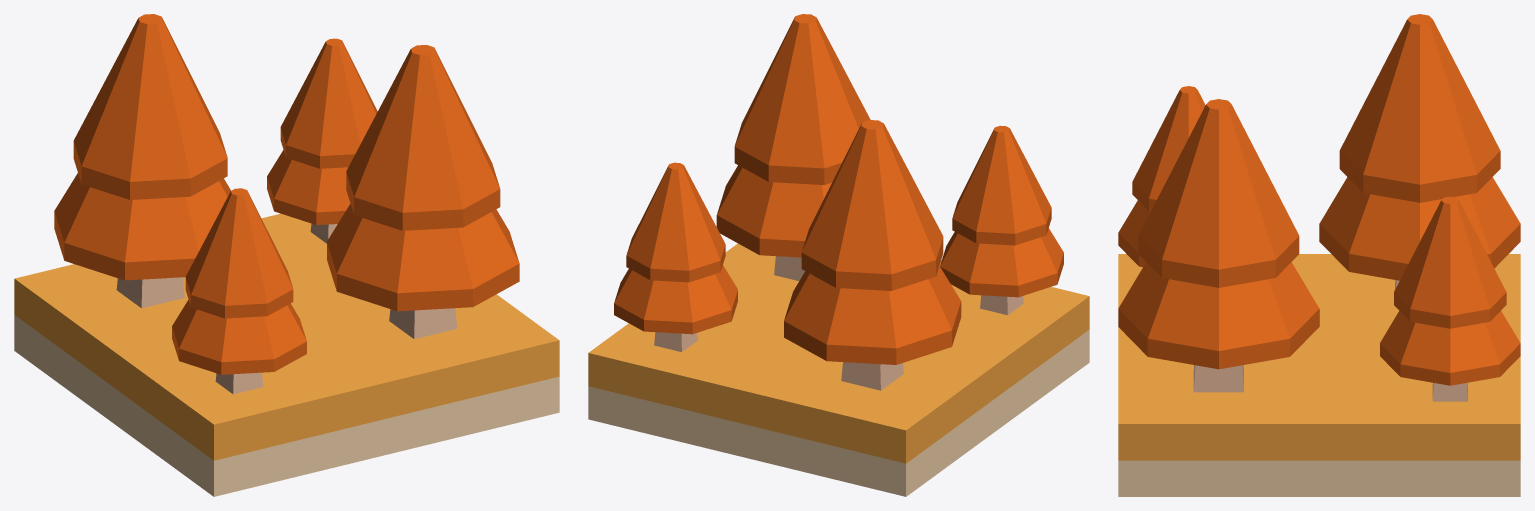
The model's file is autumn_tree_Quad.fbx.
The picture shows the model from 3 angles, left to right: view 1: azimuth 30°, elevation 25°; view 2: azimuth 150°, elevation 25°; view 3: azimuth 270°, elevation 25°; orthographic projection. The views are drawn at different scales.
Visible parts, largest first — view 1: tile_treeQuad, tree.003, tree.002, tree, tree.001; view 2: tile_treeQuad, tree.002, tree.003, tree.001, tree; view 3: tile_treeQuad, tree.003, tree.002, tree.001, tree.
Part boxes in pixels (x1,y1,x2,y2): tile_treeQuad: (14, 213, 559, 496); tree.003: (327, 45, 519, 339); tree.002: (54, 14, 230, 308); tree: (172, 188, 306, 394); tree.001: (267, 38, 377, 243); tile_treeQuad: (588, 243, 1089, 496); tree.002: (784, 120, 961, 390); tree.003: (716, 14, 870, 280); tree.001: (614, 162, 737, 351); tree: (940, 125, 1063, 315); tile_treeQuad: (1118, 254, 1520, 496); tree.003: (1118, 99, 1319, 392); tree.002: (1319, 14, 1520, 307); tree.001: (1380, 196, 1520, 401); tree: (1118, 86, 1205, 267).
Size of the model in its own units: 100 by 96 by 100.
